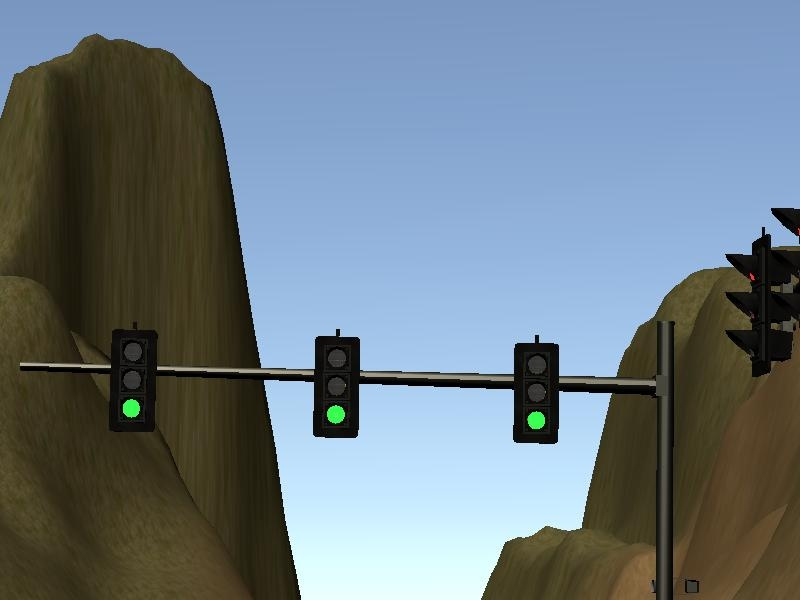GREEN: (108, 326, 160, 431), (313, 331, 360, 441), (512, 342, 560, 445)
